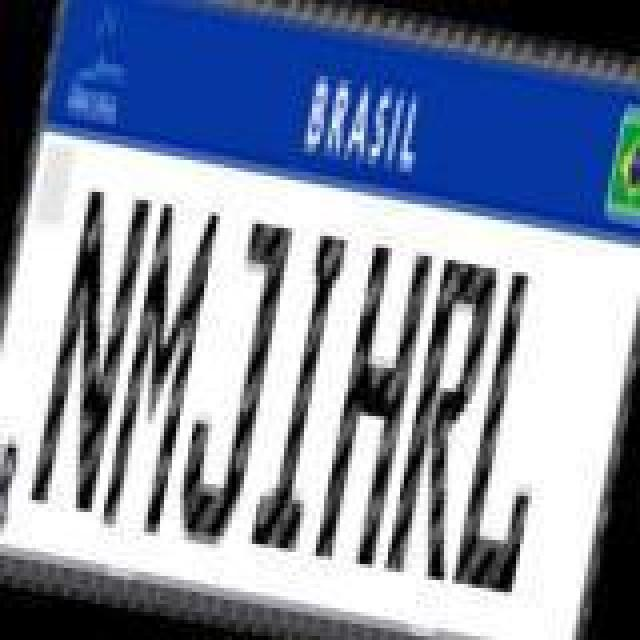H: (314, 240, 438, 576)
I: (248, 224, 360, 560)
J: (168, 214, 296, 554)
L: (450, 264, 574, 600)
M: (98, 196, 222, 540)
N: (24, 184, 152, 520)
R: (382, 252, 506, 588)
